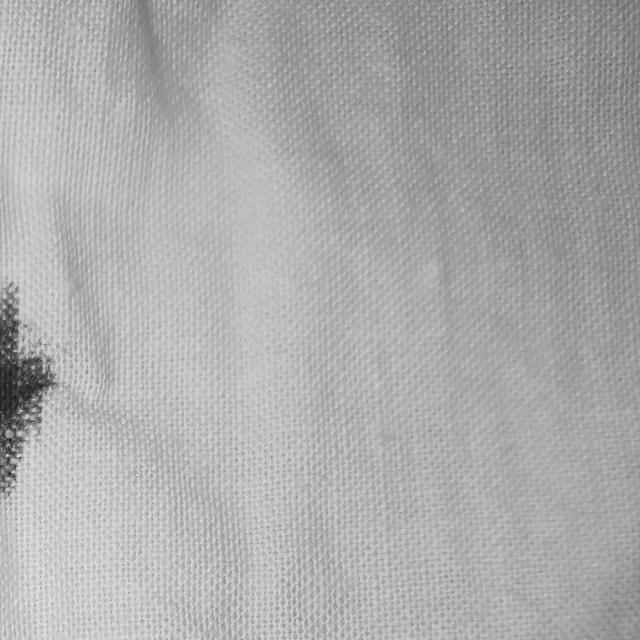Stain: (0, 283, 55, 497)
